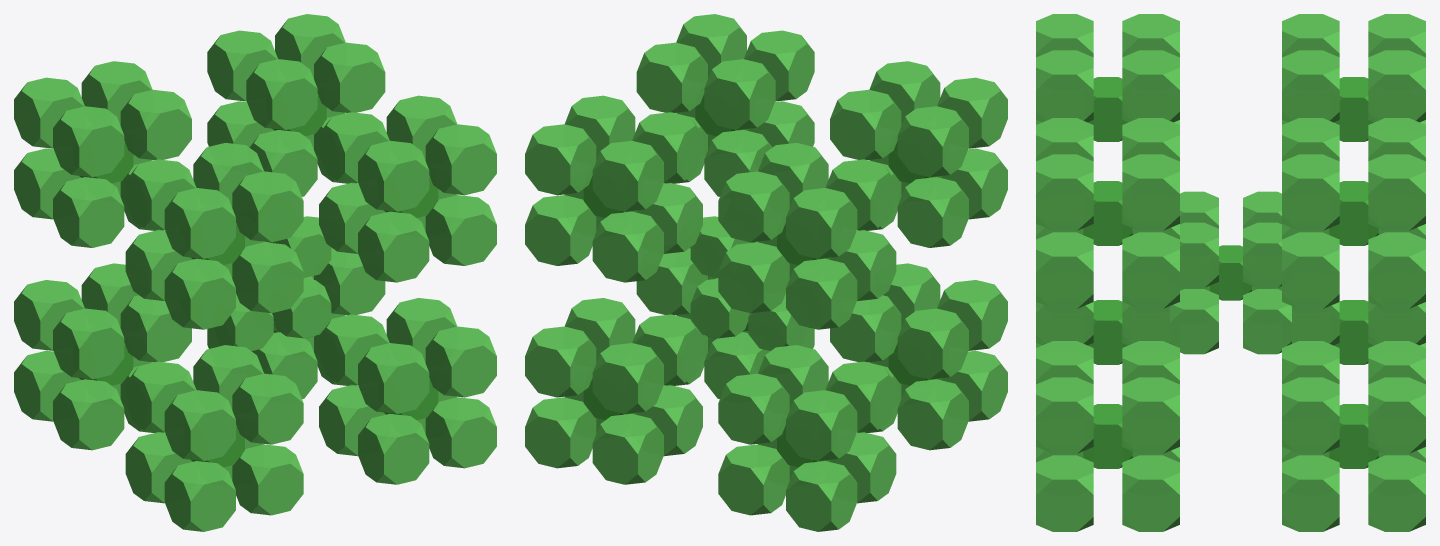
Rendered from fractaltruncatedcube2.glb.
3 views of the same model, side by side, from view 1: azimuth 30°, elevation 25°; view 2: azimuth 150°, elevation 25°; view 3: azimuth 270°, elevation 25° (orthographic). The views are drawn at different scales.
Bounding box in the file's own units: 6.99 × 6.99 × 6.99.
